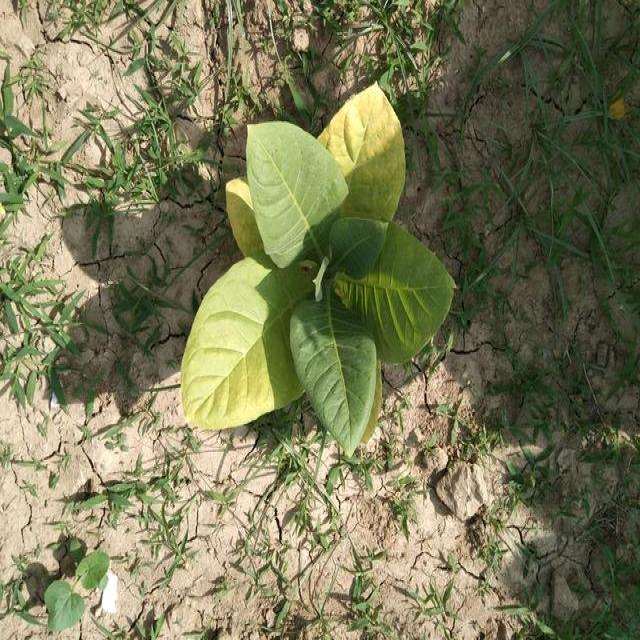crop: (171, 78, 461, 464)
